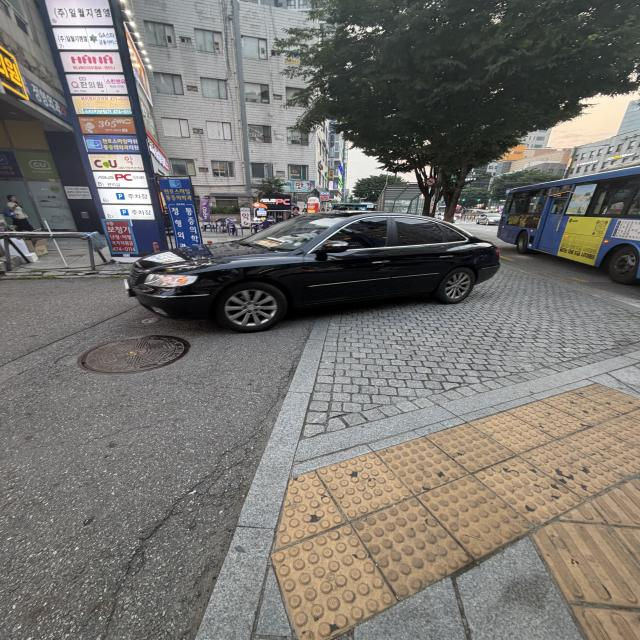car: (117, 198, 518, 338)
